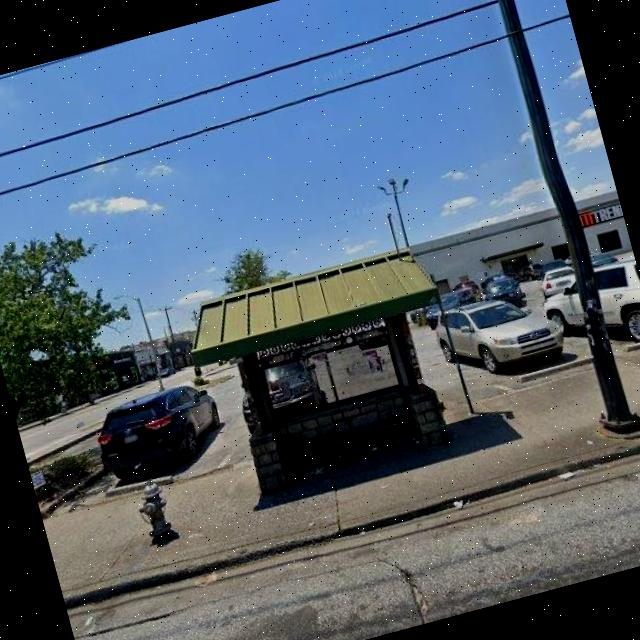seating: (278, 406, 422, 474)
shelter: (174, 237, 481, 508)
